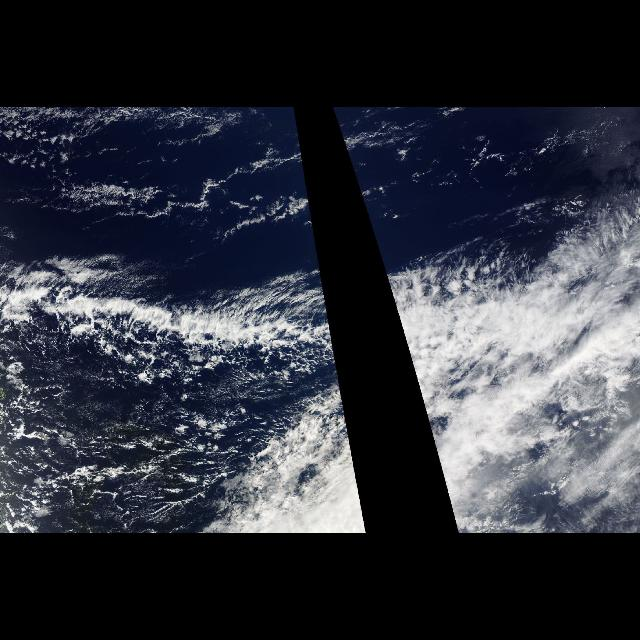Fish: (0, 234, 340, 406)
Gravel: (0, 387, 258, 533)
Sugar: (6, 112, 314, 234), (333, 112, 635, 234), (1, 423, 238, 533)
